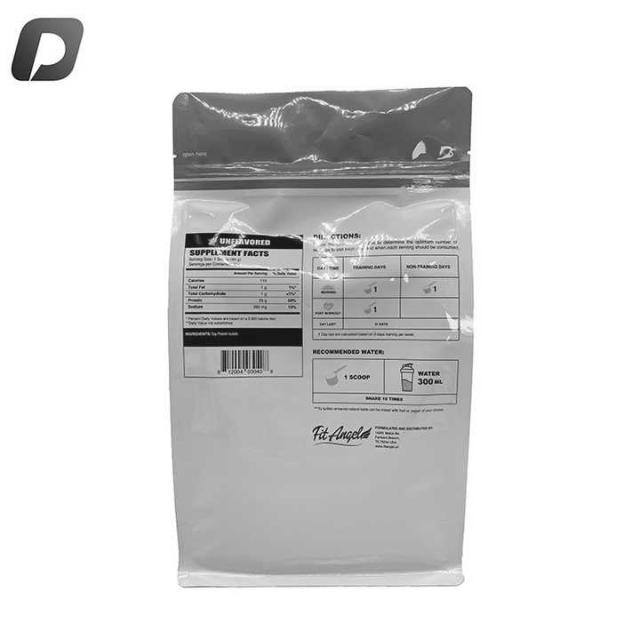Nutrition Label: (181, 231, 307, 383)
